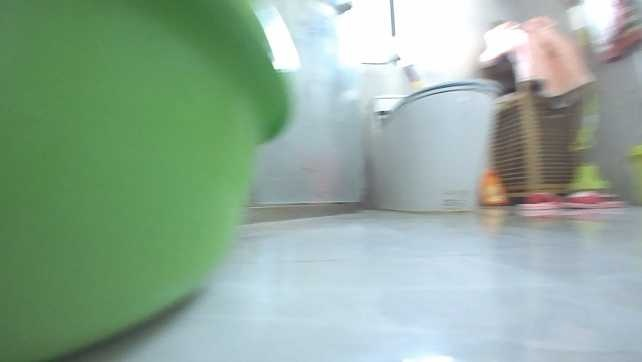toilet: (366, 74, 504, 214)
